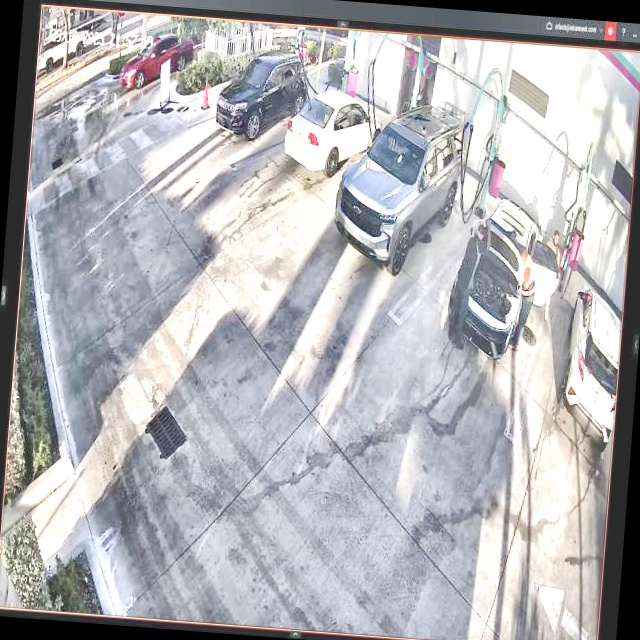Car: (335, 96, 468, 277), (451, 197, 562, 354), (285, 86, 384, 178)
